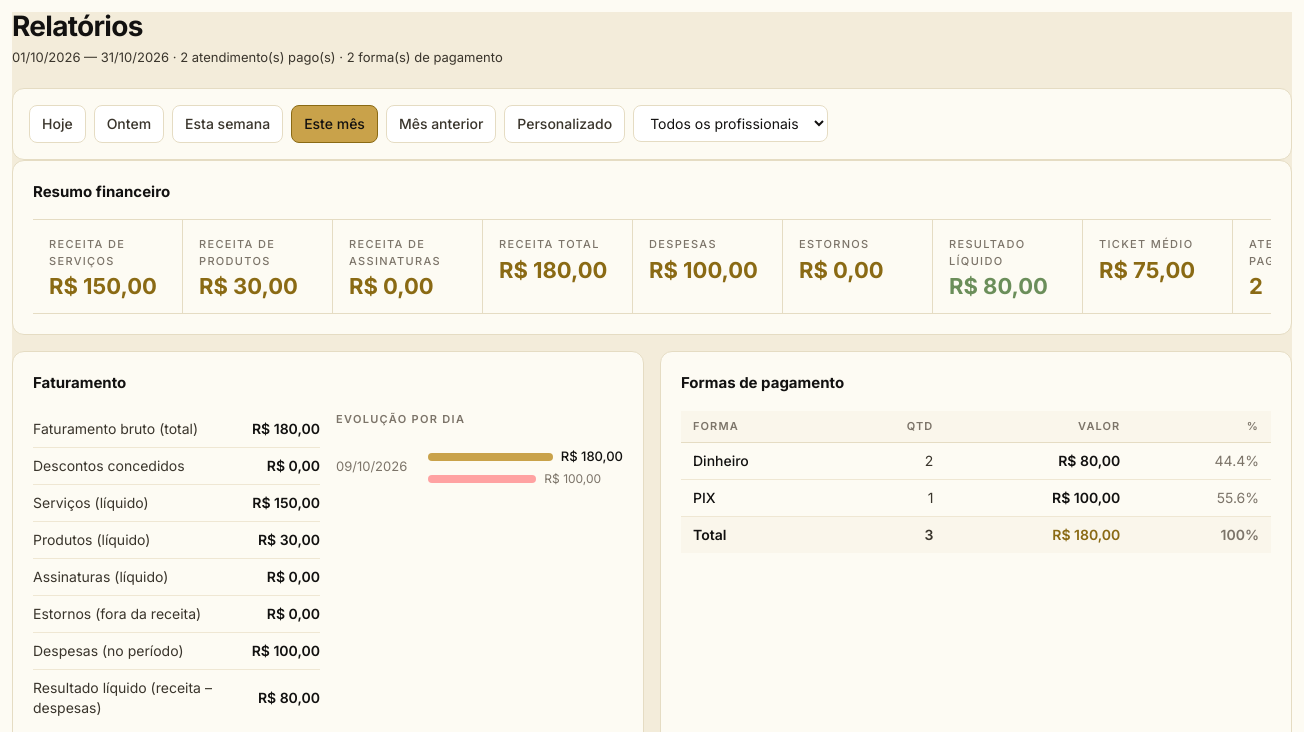
Scenario: Relatórios — filtros por período e profissional › voltar para Todos restaura os totais sem alterar os dados salvos
Select "Diego" in the dropdown named "Profissional" at (731, 124), box [633,105,828,142]
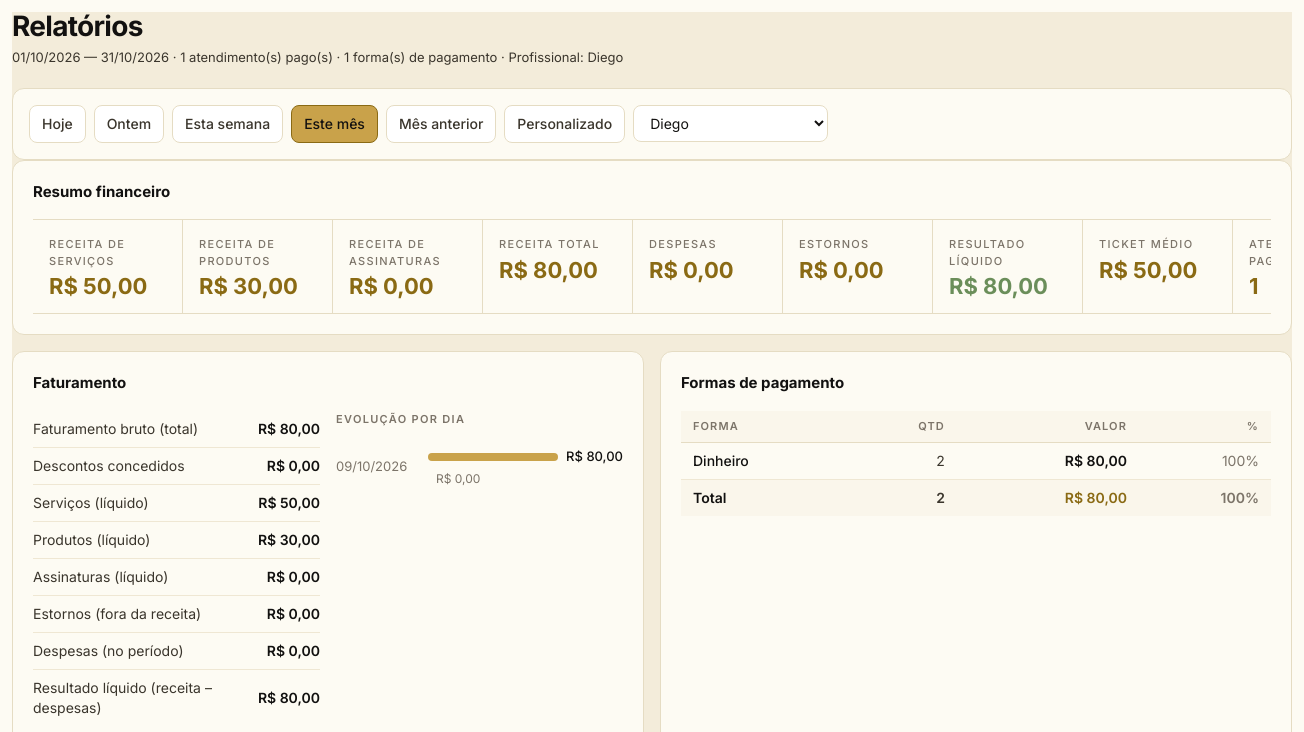
Expected: the text "R$ 80,00" below "Receita total" is shown, [499,256,598,282]
Select "Todos os profissionais" in the dropdown named "Profissional" at (731, 124), box [633,105,828,142]
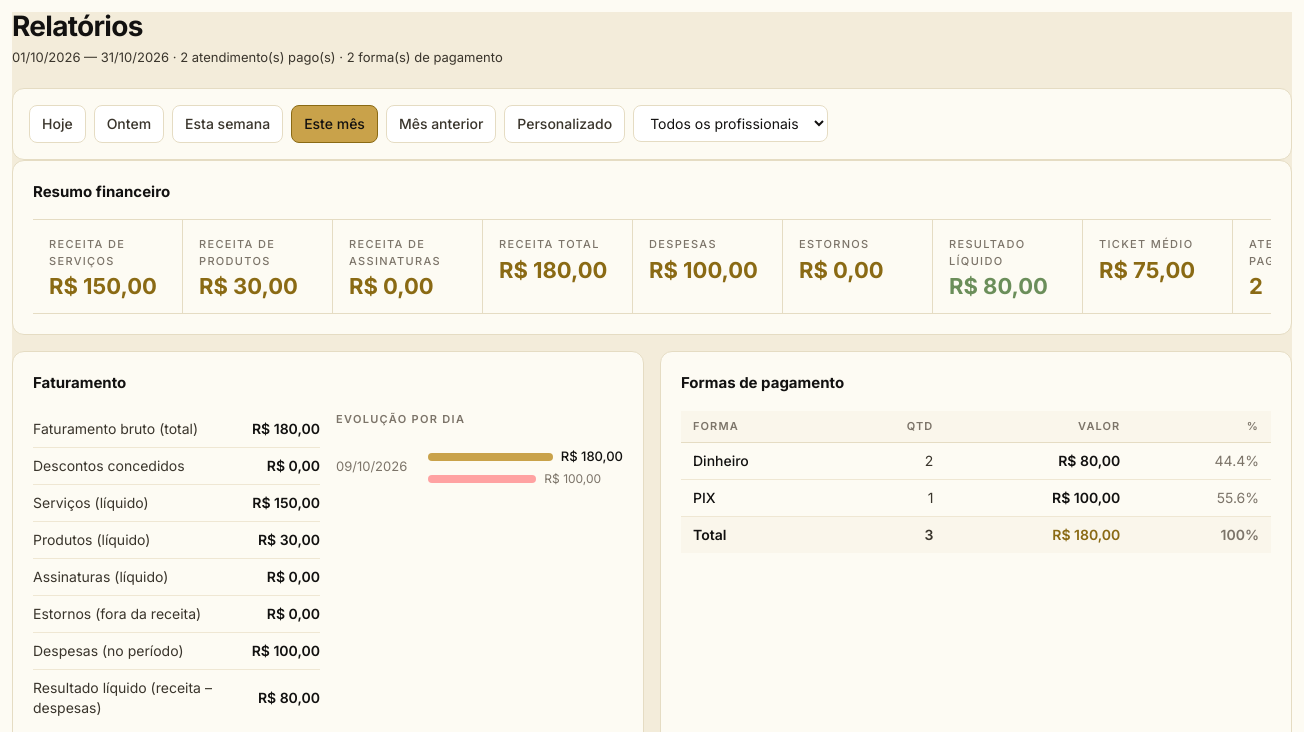
Expected: the text "R$ 180,00" below "Receita total" is shown, [499,256,608,282]
Expected: the text "Profissional:" is gone
